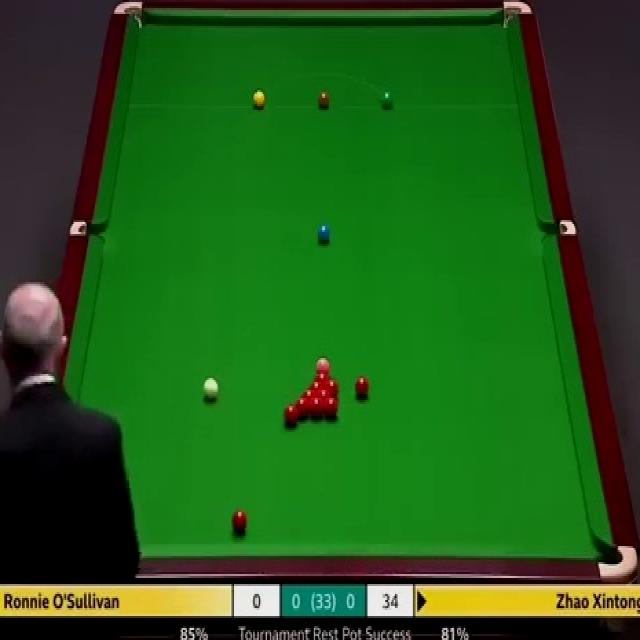blue-ball: (316, 222, 330, 245)
brown-ball: (318, 88, 330, 110)
green-ball: (380, 92, 393, 111)
pink-ball: (317, 357, 331, 379)
red-ball: (354, 375, 371, 402), (282, 404, 297, 430), (232, 510, 248, 534), (296, 396, 310, 419), (309, 398, 323, 420), (324, 378, 339, 398), (324, 398, 337, 418), (303, 388, 316, 404), (311, 380, 324, 390), (317, 390, 331, 399)
white-ball: (202, 374, 220, 404)
yellow-ball: (252, 90, 265, 111)
